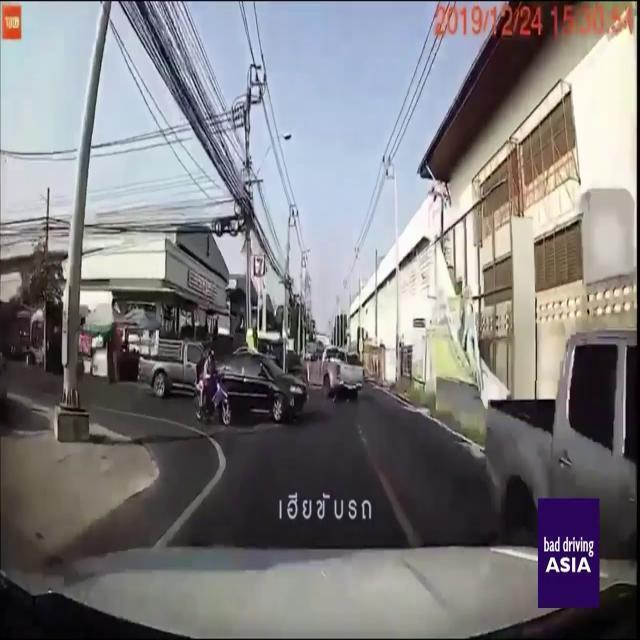accident: (305, 349, 365, 397)
non-accident: (138, 338, 306, 432)
